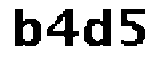4: (44, 7, 82, 49)
5: (118, 8, 150, 51)
b: (9, 4, 43, 50)
d: (83, 6, 114, 51)
